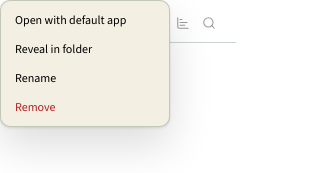
Test case: GalleryExpanded › optimistically removes tile when remove context menu item is clicked
Click the button with test id "attachment-menu-remove" at point(85, 107), box [5,93,165,121]
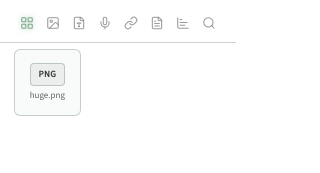
Now the button with test id "gallery-tile-img-with-thumb" is gone
